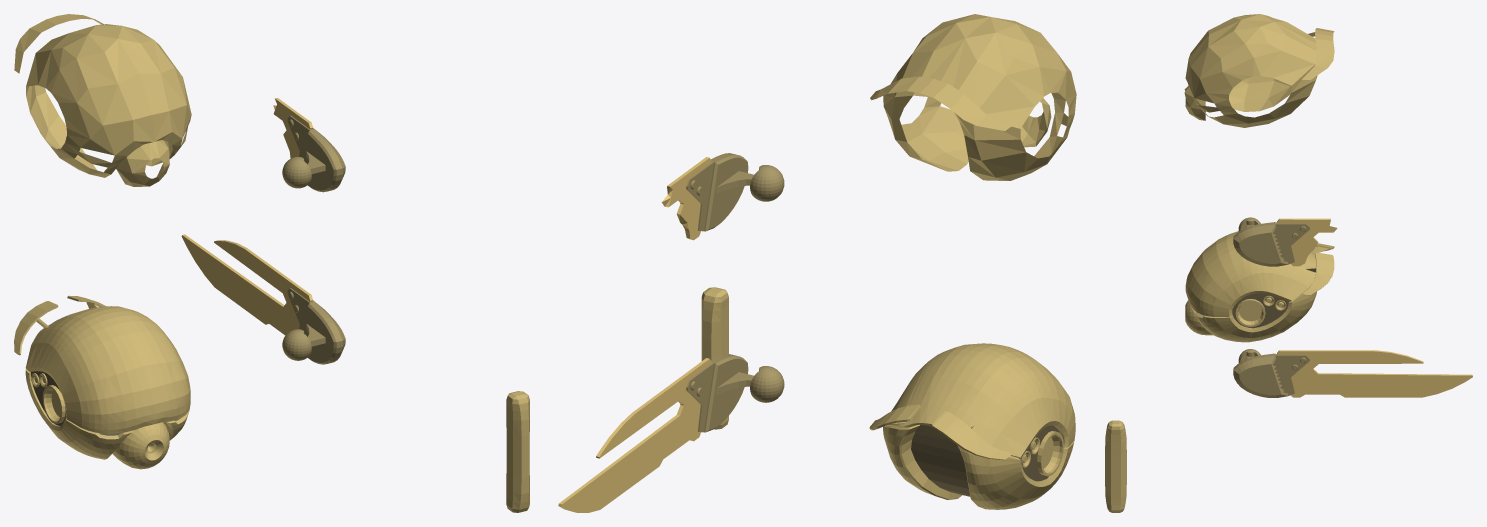
File: Ceptorylis Cursor V1.dae
3 views of the same model, side by side, from view 1: azimuth 30°, elevation 25°; view 2: azimuth 150°, elevation 25°; view 3: azimuth 270°, elevation 25° (orthographic). The views are drawn at different scales.
Parts seen in each view (by area): view 1: Ceptorylis2Hull, Ceptorylis2HullCol, Ceptorylis2Wing, Ceptorylis2WingBroken, PiriEstimate; view 2: Ceptorylis2Hull, Ceptorylis2HullCol, Ceptorylis2Wing, Ceptorylis2WingBroken, PiriEstimate; view 3: Ceptorylis2HullCol, Ceptorylis2Hull, Ceptorylis2Wing, Ceptorylis2WingBroken, PiriEstimate.
Boxes of the visible parts, x1,y1,x2,y2 form: Ceptorylis2Hull: (14,295,190,469); Ceptorylis2HullCol: (14,14,191,186); Ceptorylis2Wing: (181,234,345,364); Ceptorylis2WingBroken: (273,98,345,192); PiriEstimate: (506,391,529,512); Ceptorylis2Hull: (869,343,1075,509); Ceptorylis2HullCol: (870,14,1076,180); Ceptorylis2Wing: (558,354,784,512); Ceptorylis2WingBroken: (661,153,784,240); PiriEstimate: (701,287,728,429); Ceptorylis2HullCol: (1184,14,1334,127); Ceptorylis2Hull: (1185,231,1334,342); Ceptorylis2Wing: (1233,349,1472,397); Ceptorylis2WingBroken: (1233,217,1337,266); PiriEstimate: (1105,420,1126,512).
Size of the model in its own units: 9.38 by 10.14 by 11.34.
